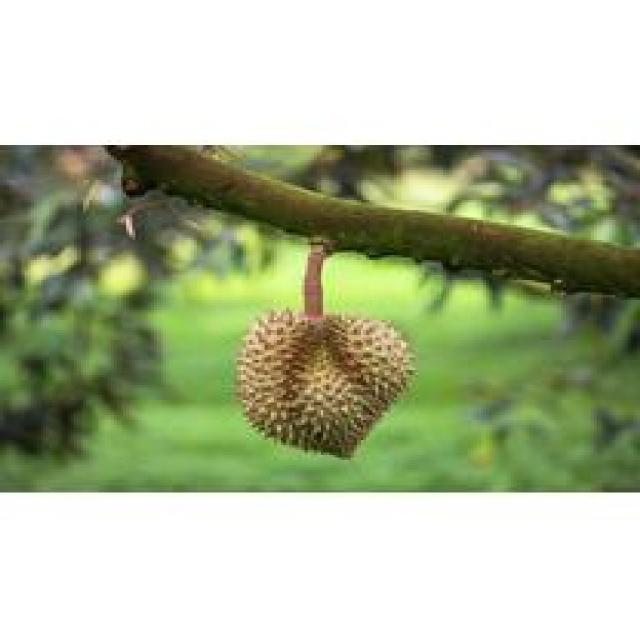fruit: (228, 292, 428, 468)
